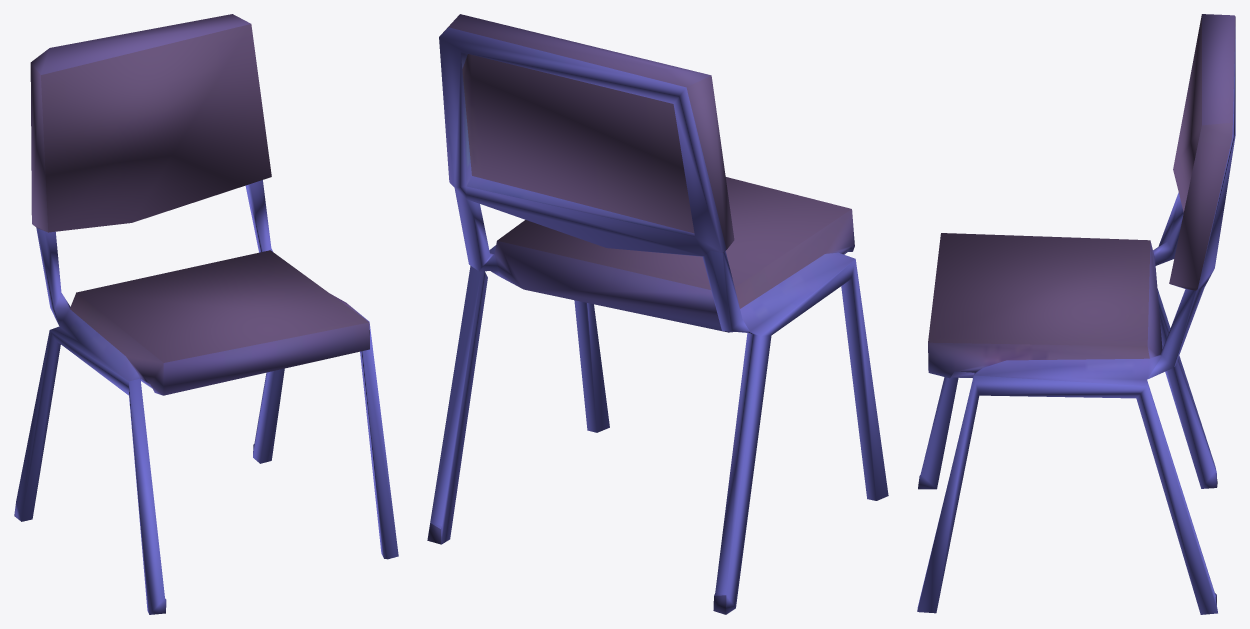
The model's file is model.progressive.glb.
3 renders of one model, left to right at view 1: azimuth 30°, elevation 25°; view 2: azimuth 150°, elevation 25°; view 3: azimuth 270°, elevation 25°, orthographic. The views are drawn at different scales.
Visible parts, largest first — view 1: BreakRoomChair1; view 2: BreakRoomChair1; view 3: BreakRoomChair1.
Part boxes in pixels (x1,y1,x2,y2): BreakRoomChair1: (14, 14, 398, 614); BreakRoomChair1: (427, 14, 888, 614); BreakRoomChair1: (917, 14, 1235, 614).
Size of the model in its own units: 1.08 by 1.87 by 1.1.
1 material, 1 textured.
